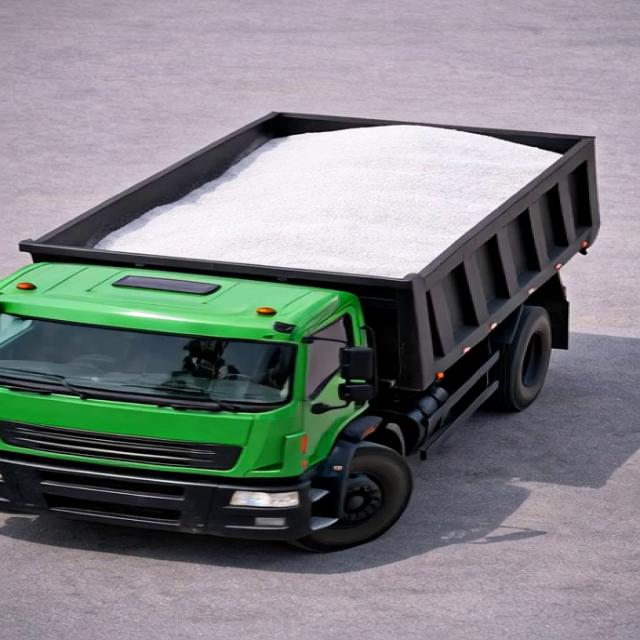trailer: (12, 113, 595, 297)
truck: (0, 91, 629, 544)
